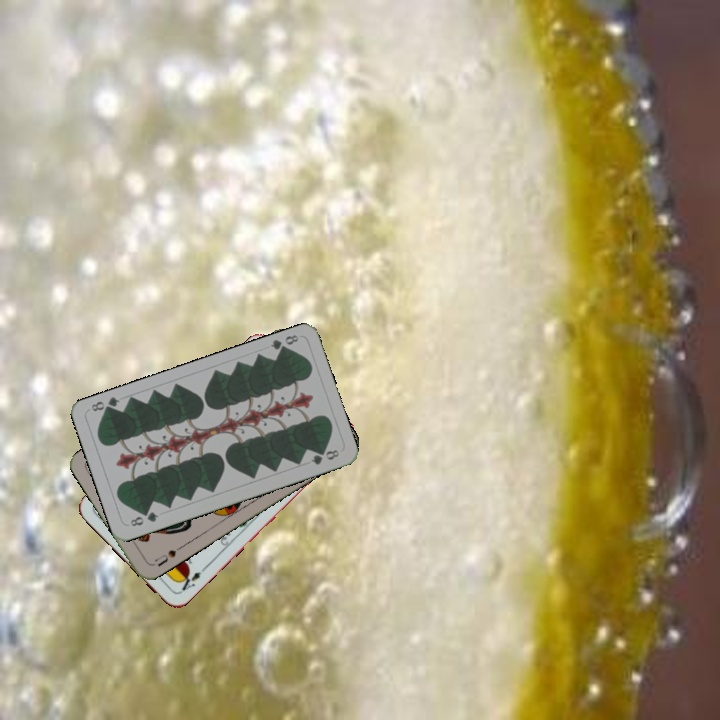EA: (174, 563, 208, 596)
G8: (266, 330, 301, 356), (126, 508, 161, 529)
SU: (150, 542, 185, 569)
